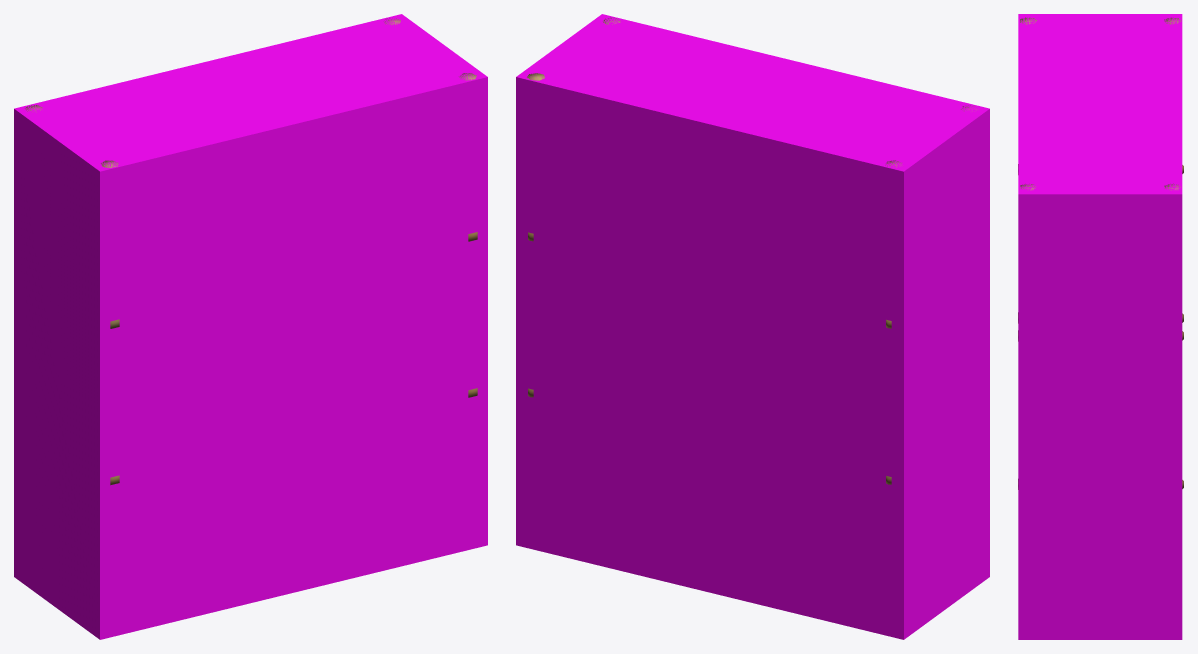
The model's file is PRP_Shelf_Bamboo_A.glb.
3 renders of one model, left to right at view 1: azimuth 30°, elevation 25°; view 2: azimuth 150°, elevation 25°; view 3: azimuth 270°, elevation 25°, orthographic. The views are drawn at different scales.
Visible parts, largest first — view 1: COL_Shelf, PRP_Shelf_Bamboo_A_Mesh; view 2: COL_Shelf; view 3: COL_Shelf, PRP_Shelf_Bamboo_A_Mesh.
Boxes of the visible parts, x1=… form: COL_Shelf: x1=14, y1=14, x2=487, y2=639; PRP_Shelf_Bamboo_A_Mesh: x1=25, y1=18, x2=477, y2=485; COL_Shelf: x1=516, y1=14, x2=989, y2=639; COL_Shelf: x1=1018, y1=14, x2=1182, y2=639; PRP_Shelf_Bamboo_A_Mesh: x1=1018, y1=17, x2=1183, y2=489.
Bounding box in the file's own units: 1.3 × 1.5 × 0.5056.
